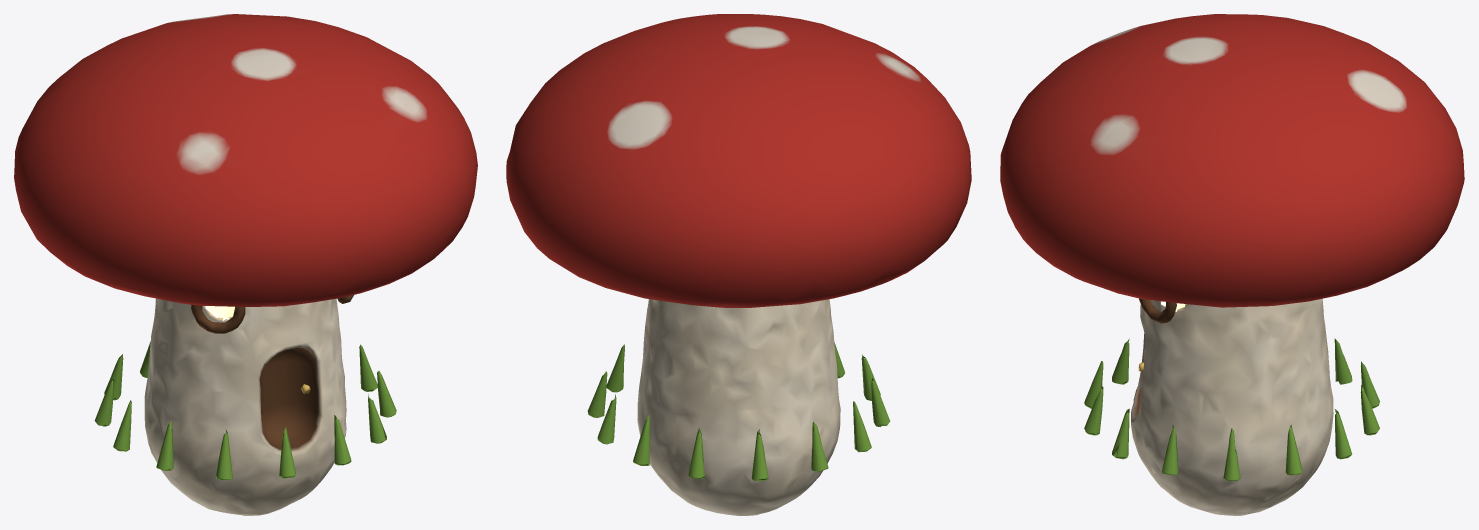
File: mushroom.glb
The picture shows the model from 3 angles, left to right: view 1: azimuth 30°, elevation 25°; view 2: azimuth 150°, elevation 25°; view 3: azimuth 270°, elevation 25°; orthographic projection.
Visible parts, largest first — view 1: dog; view 2: dog; view 3: dog.
Boxes of the visible parts, x1,y1,x2,y2 form: dog: (14,14,477,515); dog: (506,14,971,515); dog: (1000,14,1464,515).
Bounding box in the file's own units: 1.56 × 1.69 × 1.55.
